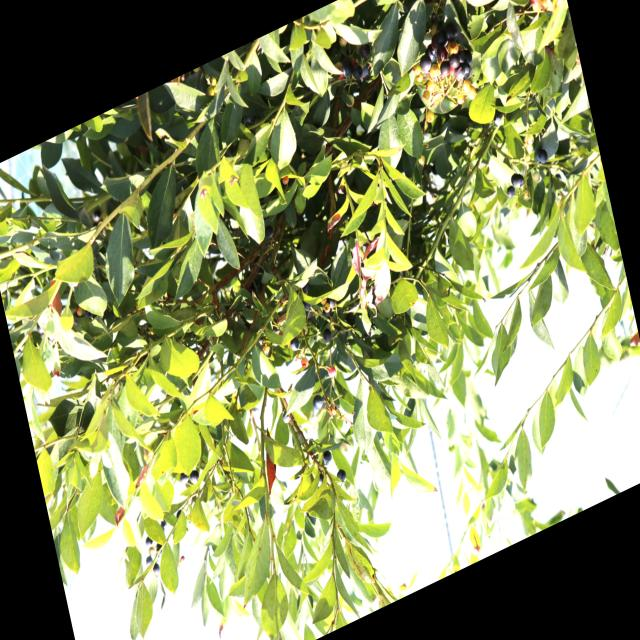blueberry: (508, 170, 526, 197), (535, 140, 552, 166), (430, 31, 448, 52), (417, 52, 432, 74), (310, 391, 325, 412), (288, 335, 302, 355), (340, 59, 354, 79), (358, 41, 372, 61), (459, 47, 473, 67), (350, 63, 364, 82), (445, 24, 458, 43), (449, 52, 462, 69), (436, 46, 449, 63), (189, 467, 200, 487), (337, 466, 349, 484), (454, 64, 466, 82), (321, 448, 333, 465), (282, 408, 293, 426), (150, 561, 162, 577), (178, 470, 190, 486), (301, 298, 313, 314), (440, 60, 451, 76), (322, 327, 332, 341)
blueberry-halfripe: (528, 0, 541, 8)
blueberry-unripe: (429, 62, 441, 80), (448, 40, 460, 57), (425, 78, 436, 95), (467, 85, 478, 102), (462, 78, 472, 95), (531, 169, 542, 184), (425, 109, 435, 125), (456, 90, 466, 106), (412, 63, 422, 78), (525, 132, 535, 147), (415, 71, 425, 85), (522, 188, 531, 202), (417, 153, 426, 166), (422, 90, 431, 102), (524, 152, 532, 164)
